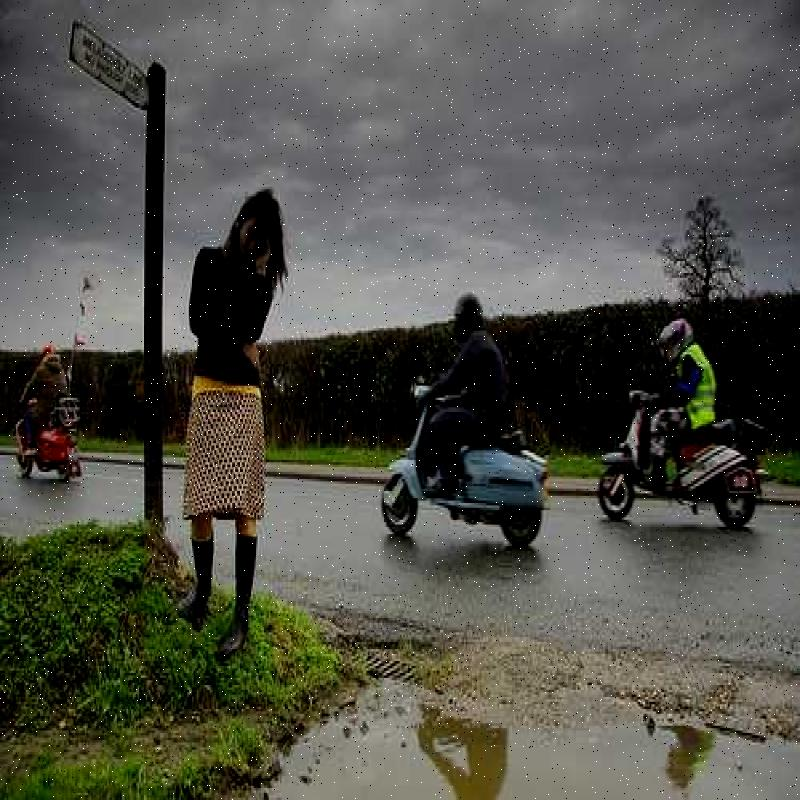bike: (597, 366, 755, 548), (376, 372, 542, 533), (37, 404, 98, 477)
